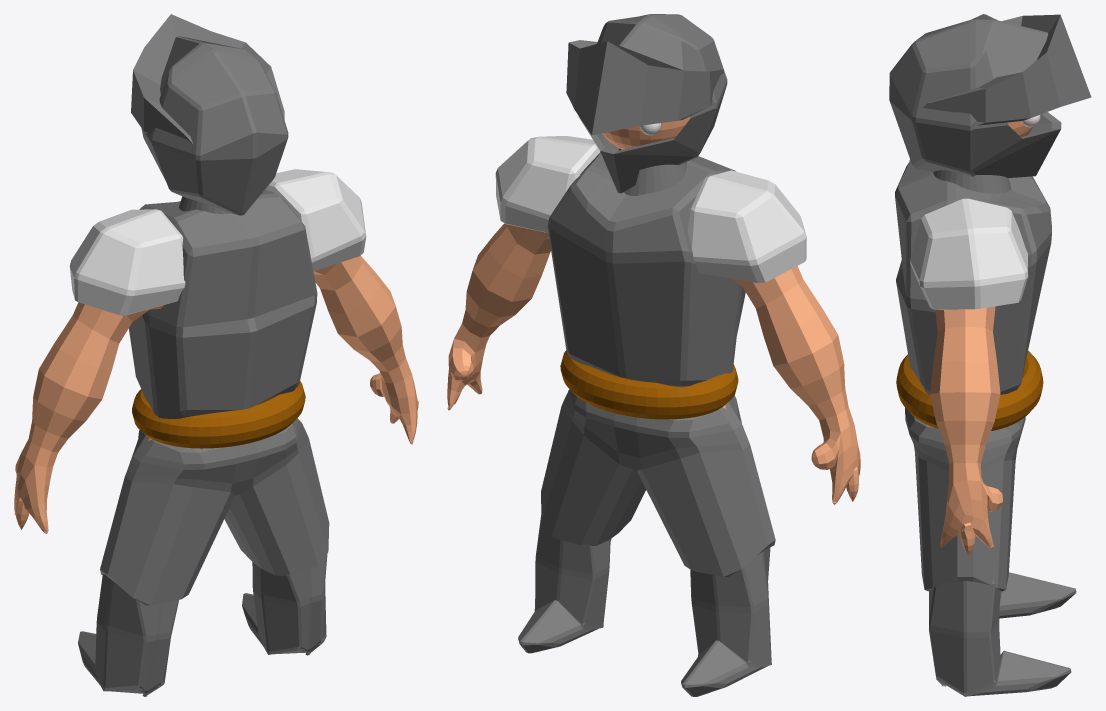
Rendered from CABALLEROOOOOOOOOO.fbx.
3 renders of one model, left to right at view 1: azimuth 30°, elevation 25°; view 2: azimuth 150°, elevation 25°; view 3: azimuth 270°, elevation 25°, orthographic. The views are drawn at different scales.
Visible parts, largest first — view 1: ArmaduraPecho, ArmaduraPierna, Casco, Cuerpo, Cube.001, Botin.001, Botin, Cube, Cinturon; view 2: ArmaduraPecho, ArmaduraPierna, Cuerpo, Casco, Cube.001, Botin.001, Botin, Cube, Cinturon, Cuello, Sphere; view 3: Casco, ArmaduraPecho, Cuerpo, Cube, ArmaduraPierna, Botin, Cinturon, Botin.001, Cuello.
Part boxes in pixels (x1,y1,x2,y2): ArmaduraPecho: (129,189,317,418); ArmaduraPierna: (100,418,329,605); Casco: (131,14,288,215); Cuerpo: (14,255,418,533); Cube.001: (69,209,185,316); Botin.001: (78,574,178,696); Botin: (242,543,327,655); Cube: (265,169,366,271); Cinturon: (132,381,305,448); ArmaduraPecho: (547,152,745,387); ArmaduraPierna: (541,389,775,576); Cuerpo: (447,223,860,504); Casco: (566,14,727,193); Cube.001: (687,170,806,283); Botin.001: (681,547,771,696); Botin: (518,512,611,653); Cube: (495,135,600,232); Cinturon: (560,350,738,419); Cuello: (618,148,686,195); Sphere: (602,116,690,149); Casco: (889,14,1091,178); ArmaduraPecho: (895,160,1051,394); Cuerpo: (930,306,1002,555); Cube: (910,198,1028,309); ArmaduraPierna: (905,407,1025,591); Botin: (929,580,1071,696); Cinturon: (896,350,1043,430); Botin.001: (999,572,1076,618); Cuello: (933,170,1011,193).
Bounding box in the file's own units: 670 × 993 × 286.
